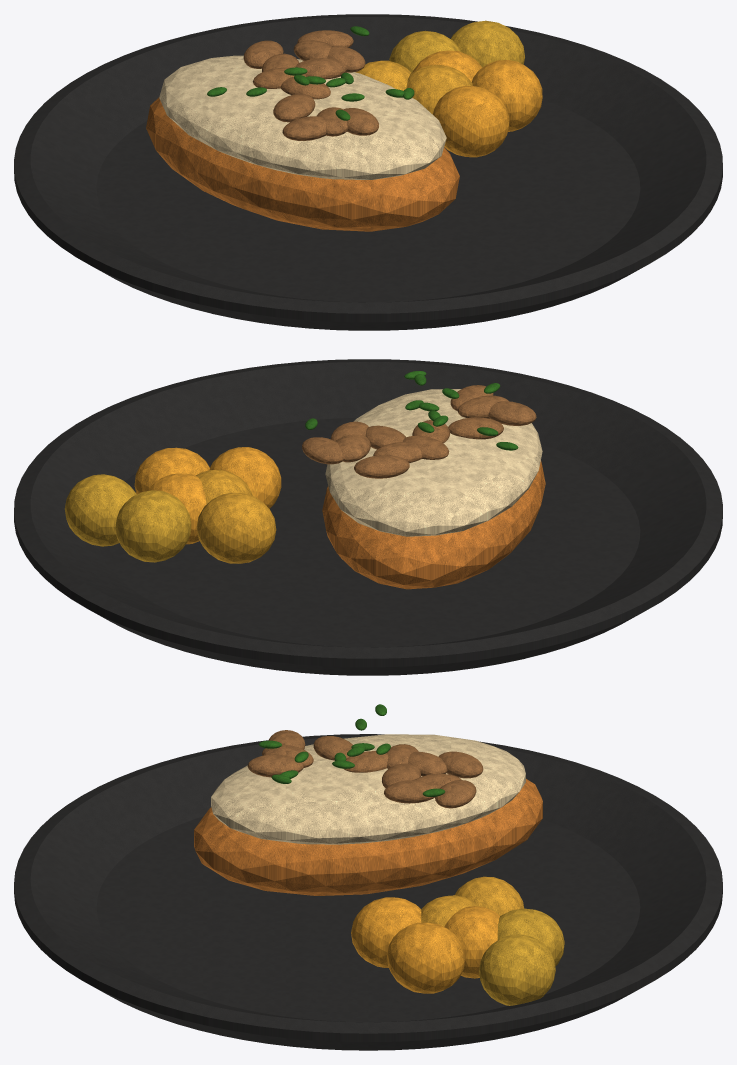
File: pollo-hongos.glb
3 renders of one model, top to bottom at view 1: azimuth 30°, elevation 25°; view 2: azimuth 150°, elevation 25°; view 3: azimuth 270°, elevation 25°, orthographic.
Visible parts, largest first — view 1: part0, part2, part1, part3, part6, part5, part4, part7; view 2: part0, part2, part1, part6, part5, part3, part4, part7; view 3: part0, part2, part1, part3, part6, part5, part4, part7.
Part boxes in pixels (bbox=[...]): part0: bbox=[14, 14, 722, 330]; part2: bbox=[159, 55, 446, 179]; part1: bbox=[146, 97, 459, 231]; part3: bbox=[413, 50, 542, 157]; part6: bbox=[243, 30, 378, 140]; part5: bbox=[389, 20, 524, 72]; part4: bbox=[355, 60, 472, 113]; part7: bbox=[207, 26, 414, 120]; part0: bbox=[14, 359, 722, 675]; part2: bbox=[325, 389, 542, 536]; part1: bbox=[322, 460, 545, 589]; part6: bbox=[302, 385, 536, 478]; part5: bbox=[64, 474, 191, 562]; part3: bbox=[134, 447, 281, 544]; part4: bbox=[195, 469, 276, 563]; part7: bbox=[305, 371, 518, 450]; part0: bbox=[14, 734, 722, 1050]; part2: bbox=[211, 734, 525, 844]; part1: bbox=[194, 779, 542, 895]; part3: bbox=[351, 897, 499, 993]; part6: bbox=[247, 730, 483, 808]; part5: bbox=[479, 908, 564, 1005]; part4: bbox=[421, 876, 524, 926]; part7: bbox=[258, 704, 445, 796].
Bounding box in the file's own units: 0.3 × 0.0725 × 0.3.
Materials: 8 (8 with a texture image).
